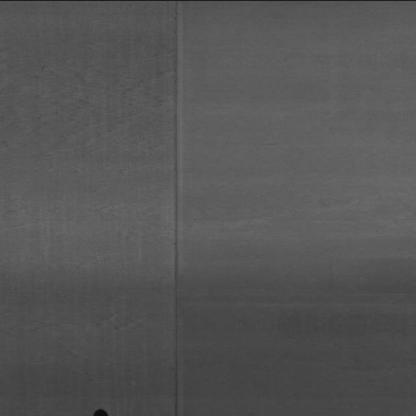punching_hole: (91, 407, 115, 415)
silk_spot: (17, 55, 148, 169)
welding_line: (163, 2, 187, 415)
